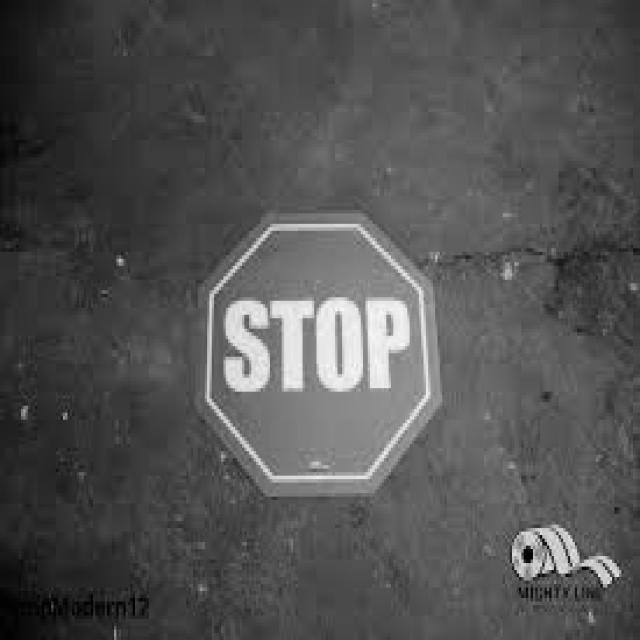stop sign: (195, 215, 442, 503)
